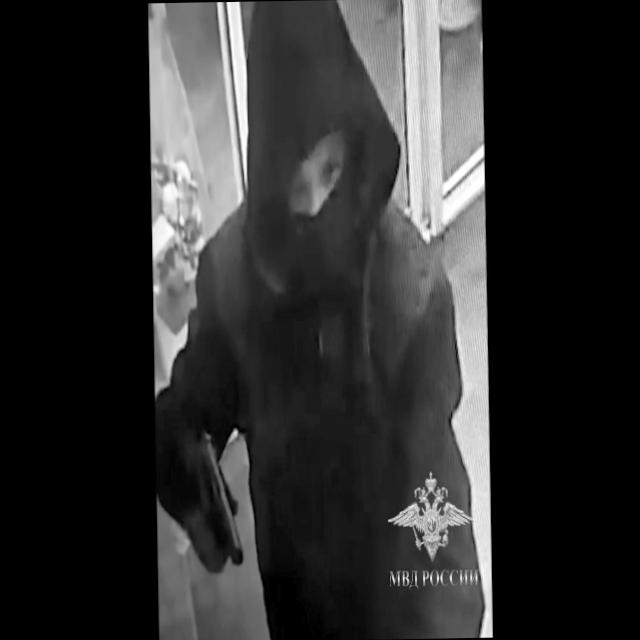gun: (192, 432, 246, 578)
person with a gun: (145, 0, 464, 640)
